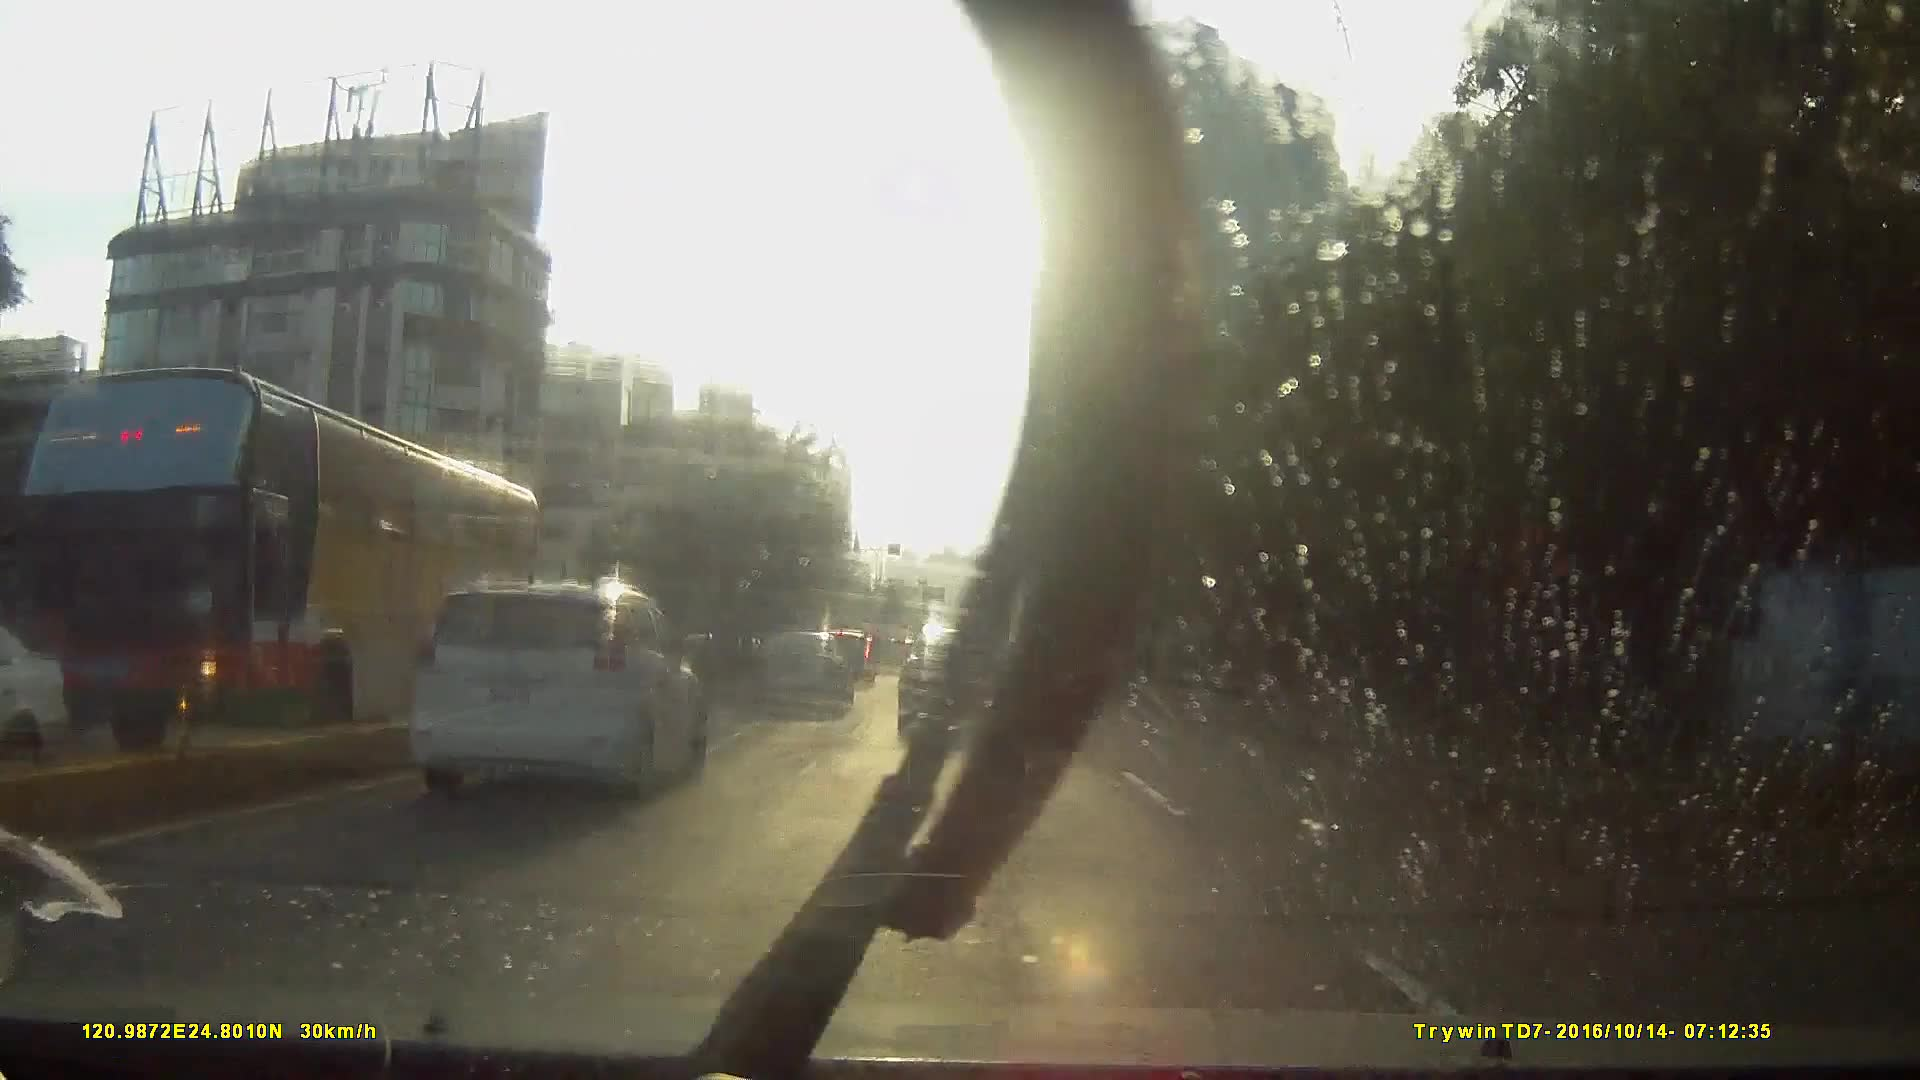vehicle: (8, 359, 549, 767), (251, 556, 684, 868), (410, 568, 707, 796), (894, 620, 1021, 735), (1007, 566, 1112, 692), (746, 628, 855, 715), (866, 638, 915, 687)
